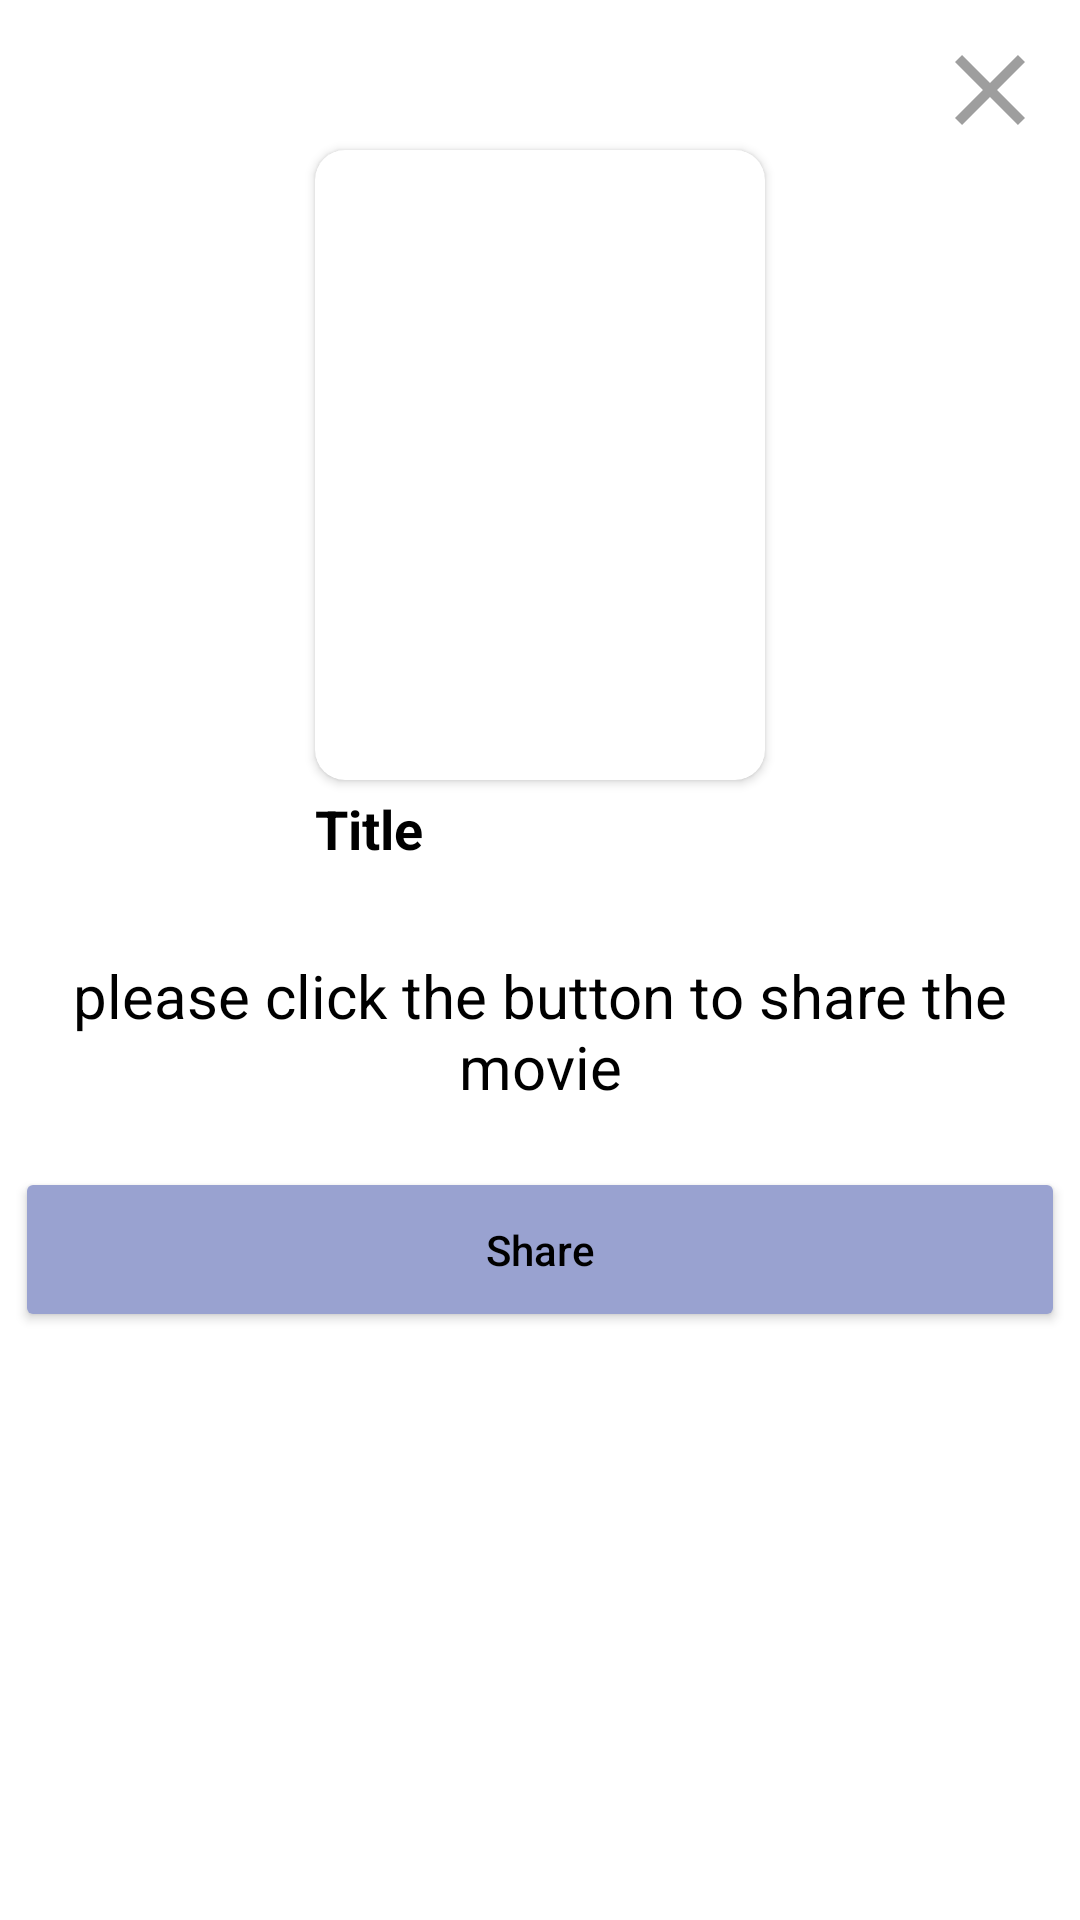

Named icons in this screenshot (1080*1920) and their bounding boxes, (x1=x1, y1=y1, x2=x2, y2=y2):
close: (x1=955, y1=55, x2=1025, y2=125)
